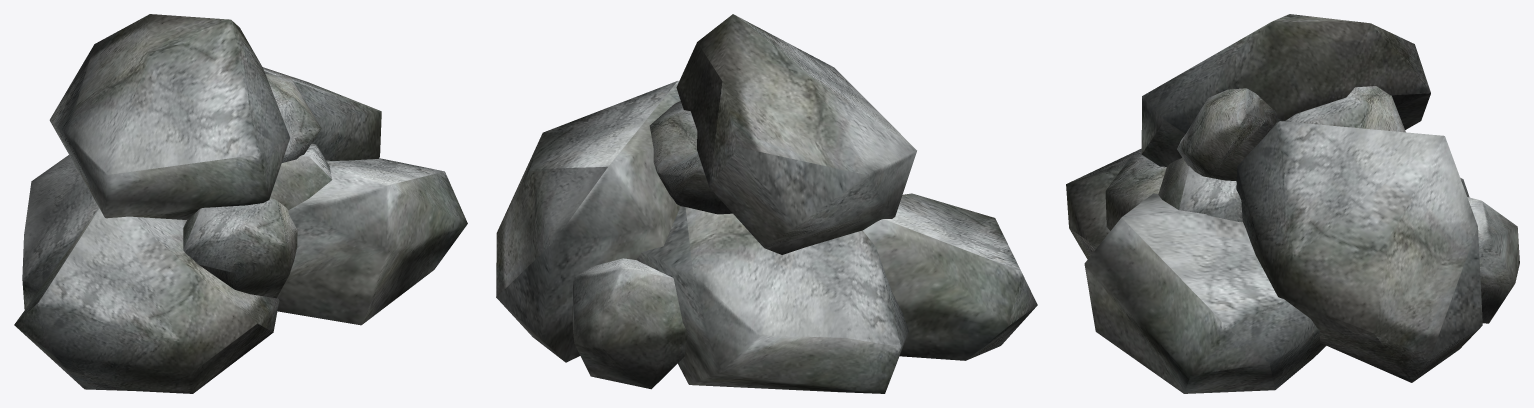
Rendered from pir_m_prp_rok_rubble_digspot.fbx.
3 renders of one model, left to right at view 1: azimuth 30°, elevation 25°; view 2: azimuth 150°, elevation 25°; view 3: azimuth 270°, elevation 25°, orthographic. The views are drawn at different scales.
Visible parts, largest first — view 1: rock_09, rock_02, rock_07, rock_10, rock_05, rock_04, rock_01, rock_08; view 2: rock_09, rock_05, rock_04, rock_02, rock_03, rock_06; view 3: rock_04, rock_07, rock_09, rock_08, rock_03, rock_01, rock_02, rock_06, rock_10.
Boxes of the visible parts, left/top/right/bottom form: rock_09: left=49, top=14, right=290, bottom=219; rock_02: left=14, top=208, right=279, bottom=393; rock_07: left=277, top=158, right=467, bottom=325; rock_10: left=183, top=197, right=297, bottom=298; rock_05: left=22, top=155, right=98, bottom=309; rock_04: left=263, top=67, right=381, bottom=160; rock_01: left=270, top=143, right=332, bottom=209; rock_08: left=265, top=74, right=321, bottom=162; rock_09: left=676, top=14, right=916, bottom=254; rock_05: left=637, top=206, right=908, bottom=393; rock_04: left=496, top=81, right=680, bottom=362; rock_02: left=863, top=193, right=1037, bottom=360; rock_03: left=572, top=258, right=687, bottom=389; rock_06: left=649, top=101, right=732, bottom=214; rock_04: left=1236, top=121, right=1482, bottom=382; rock_07: left=1084, top=193, right=1326, bottom=393; rock_09: left=1141, top=14, right=1430, bottom=166; rock_08: left=1177, top=88, right=1284, bottom=181; rock_03: left=1467, top=197, right=1519, bottom=323; rock_01: left=1158, top=157, right=1242, bottom=221; rock_02: left=1066, top=148, right=1141, bottom=259; rock_06: left=1285, top=86, right=1405, bottom=132; rock_10: left=1105, top=155, right=1166, bottom=230.
Size of the model in its own units: 686 by 436 by 570.
1 material, 1 textured.
